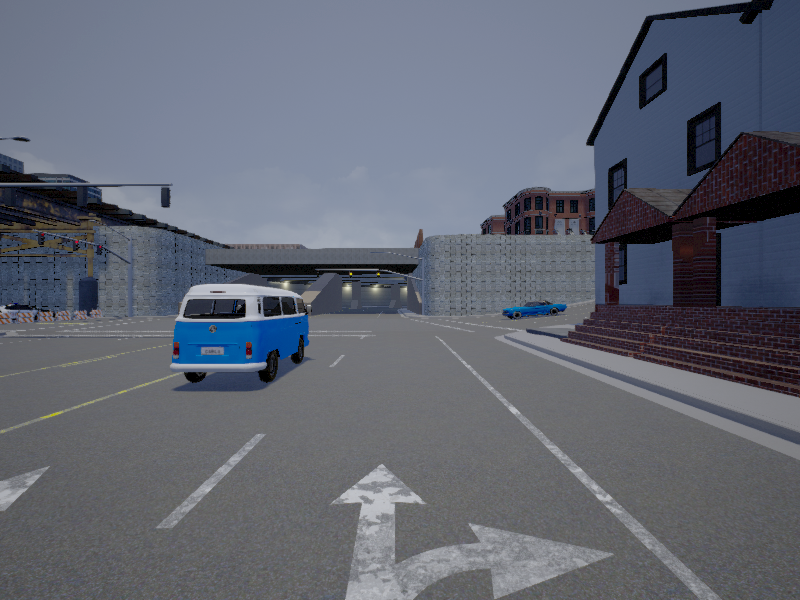Benign: (170, 282, 312, 385), (503, 299, 567, 319)
